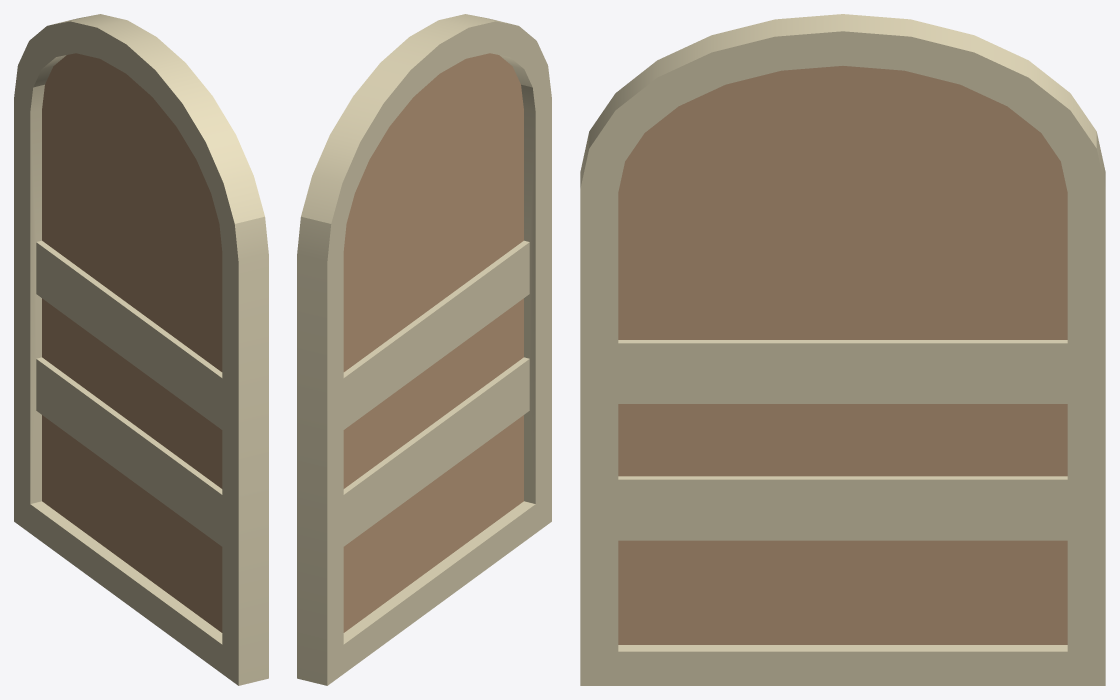
File: gate.obj
The picture shows the model from 3 angles, left to right: view 1: azimuth 30°, elevation 25°; view 2: azimuth 150°, elevation 25°; view 3: azimuth 270°, elevation 25°; orthographic projection. The views are drawn at different scales.
Visible parts, largest first — view 1: gate; view 2: gate; view 3: gate.
Part boxes in pixels (bbox=[...]): gate: bbox=[14, 14, 268, 685]; gate: bbox=[297, 14, 551, 685]; gate: bbox=[580, 14, 1105, 685].
Size of the model in its own units: 0.516 by 9.1 by 6.62.
